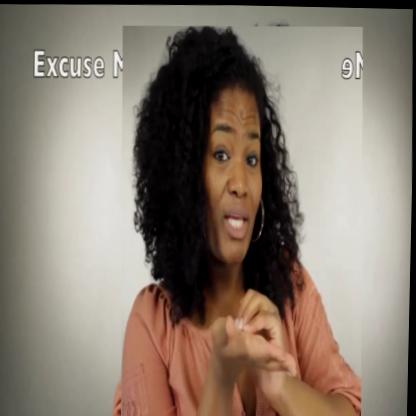ExcuseMe: (115, 20, 369, 416)
